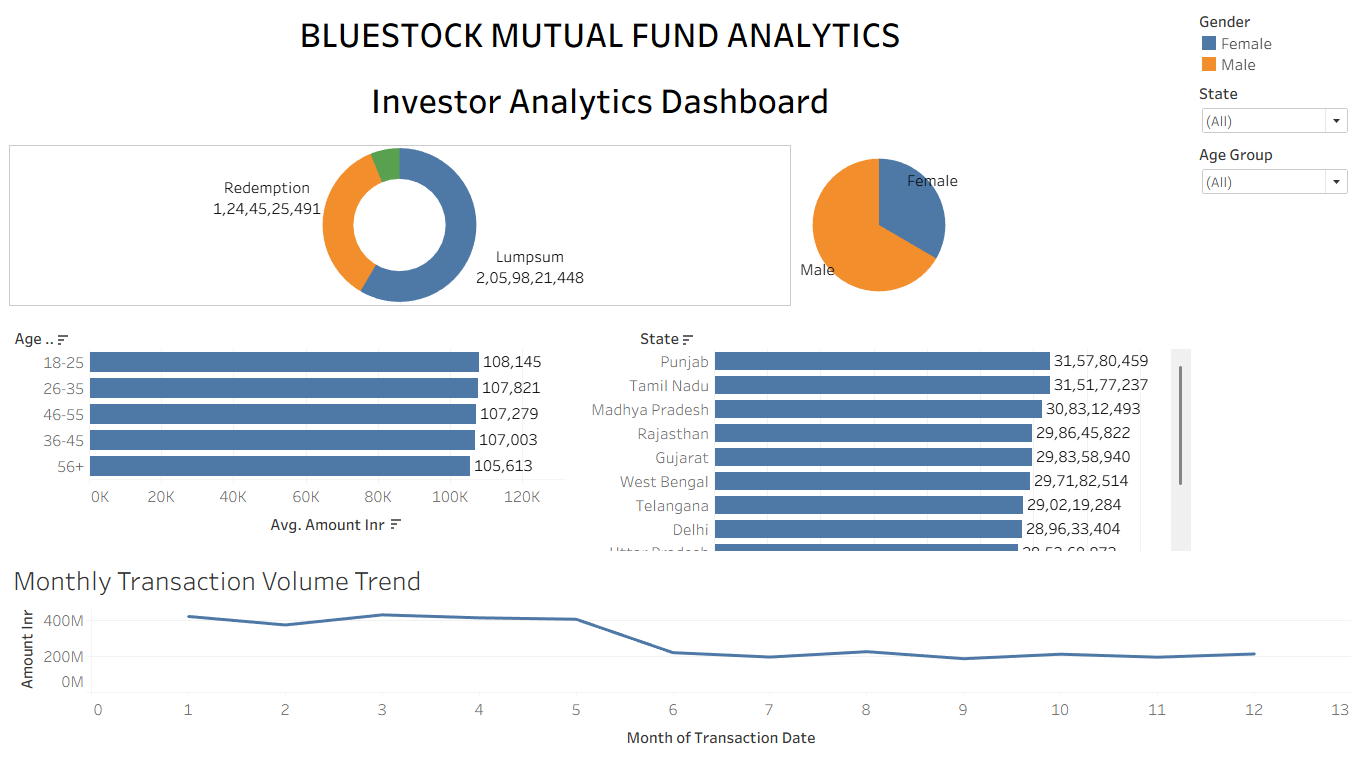

The dashboard page shown, as its layout file describes it:
{"tool":"tableau","page":{"name":"Investor Analytics Dashboard","canvas":[1366,768],"ordinal":2},"visuals":[{"type":"text","box":[8,8,1190,119]},{"type":"legend","title":"Gender_Split","param":"[federated.1mid6ou1wm9pei1h3wwcr180mehc].[none:gender:nk]","box":[1198,8,160,72]},{"type":"filter","title":"State_Transaction_Bar","param":"[federated.1mid6ou1wm9pei1h3wwcr180mehc].[none:state:nk]","box":[1198,80,160,61]},{"type":"worksheet","title":"Transaction_Type_Donut","mark":"Pie","cols":["Calculation_1194579813321510913","Calculation_1194579813321580547"],"box":[8,127,790,184]},{"type":"worksheet","title":"Gender_Split","mark":"Pie","box":[798,127,400,184]},{"type":"filter","title":"Age_Group_SIP","param":"[federated.1mid6ou1wm9pei1h3wwcr180mehc].[none:age_group:nk]","box":[1198,141,160,61]},{"type":"worksheet","title":"Age_Group_SIP","mark":"Bar","rows":["age_group"],"cols":["amount_inr"],"box":[8,311,565,245]},{"type":"worksheet","title":"State_Transaction_Bar","mark":"Bar","rows":["state"],"cols":["amount_inr"],"box":[573,311,625,245]},{"type":"worksheet","title":"Monthly_Transaction_Trend","mark":"Automatic","rows":["amount_inr"],"cols":["transaction_date"],"box":[8,556,1350,204]}]}

Visuals, with their boxes in screenshot pixels (x1, y1, x2, y2), scaled from the page's 1366x768 canvas onto the 1363x767 screenshot:
text: 8,8,1195,127
"Gender_Split" legend: 1195,8,1355,80
"State_Transaction_Bar" filter: 1195,80,1355,141
"Transaction_Type_Donut" worksheet (Pie marks): 8,127,796,311
"Gender_Split" worksheet (Pie marks): 796,127,1195,311
"Age_Group_SIP" filter: 1195,141,1355,202
"Age_Group_SIP" worksheet (Bar marks): 8,311,572,555
"State_Transaction_Bar" worksheet (Bar marks): 572,311,1195,555
"Monthly_Transaction_Trend" worksheet: 8,555,1355,759
